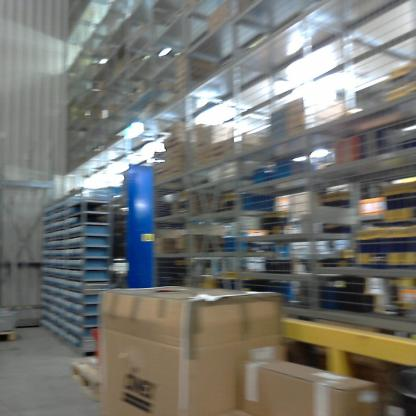pallet: (69, 354, 104, 408), (2, 327, 23, 349)
